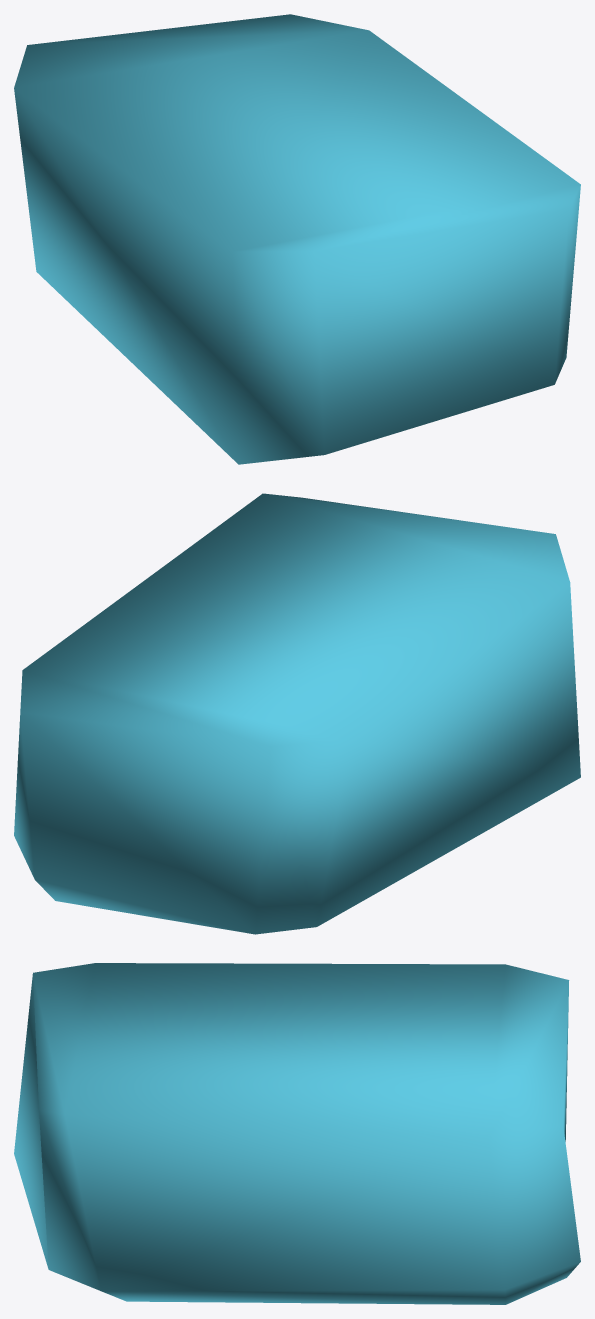
Rendered from brick_05.FBX.
The picture shows the model from 3 angles, top to bottom: view 1: azimuth 30°, elevation 25°; view 2: azimuth 150°, elevation 25°; view 3: azimuth 270°, elevation 25°; orthographic projection. The views are drawn at different scales.
Parts seen in each view (by area): view 1: brick_05; view 2: brick_05; view 3: brick_05.
Boxes of the visible parts, box(x1,y1,x2,y2) form: brick_05: box(14, 14, 580, 464); brick_05: box(14, 493, 580, 934); brick_05: box(14, 963, 580, 1304).
Size of the model in its own units: 14.75 by 9.15 by 22.26.
